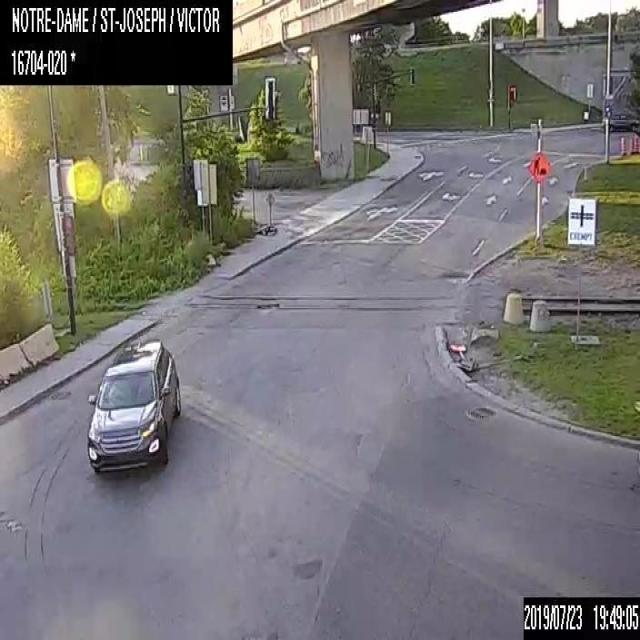construction: (526, 152, 552, 181), (620, 135, 624, 155), (633, 136, 638, 152), (629, 136, 633, 152)
vehicle: (86, 339, 180, 475), (603, 112, 639, 130)
